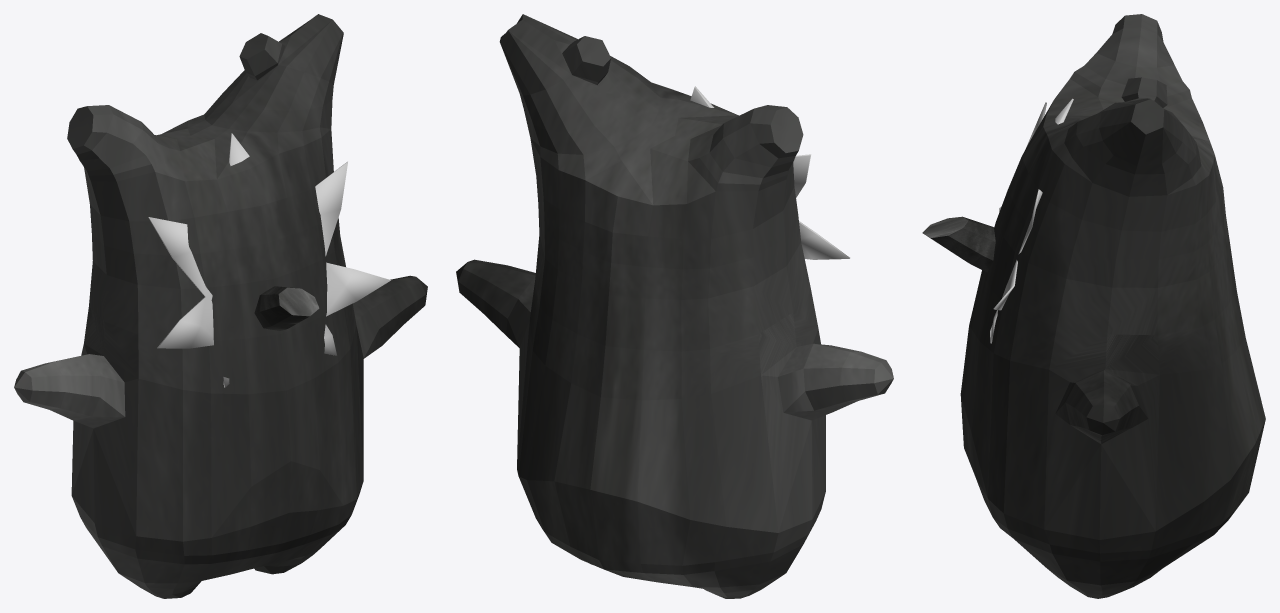
File: frame_0033.obj
3 views of the same model, side by side, from view 1: azimuth 30°, elevation 25°; view 2: azimuth 150°, elevation 25°; view 3: azimuth 270°, elevation 25° (orthographic). The views are drawn at different scales.
Parts seen in each view (by area): view 1: korok, leaf, nose; view 2: korok, leaf; view 3: korok, nose, leaf.
Boxes of the visible parts, bbox=[...] form: korok: bbox=[14, 14, 427, 598]; leaf: bbox=[148, 133, 390, 387]; nose: bbox=[254, 286, 319, 330]; korok: bbox=[456, 14, 893, 598]; leaf: bbox=[690, 86, 849, 259]; korok: bbox=[960, 14, 1265, 598]; nose: bbox=[922, 216, 995, 272]; leaf: bbox=[990, 98, 1073, 343].
Size of the model in its own units: 1.86 by 2.24 by 1.31.
